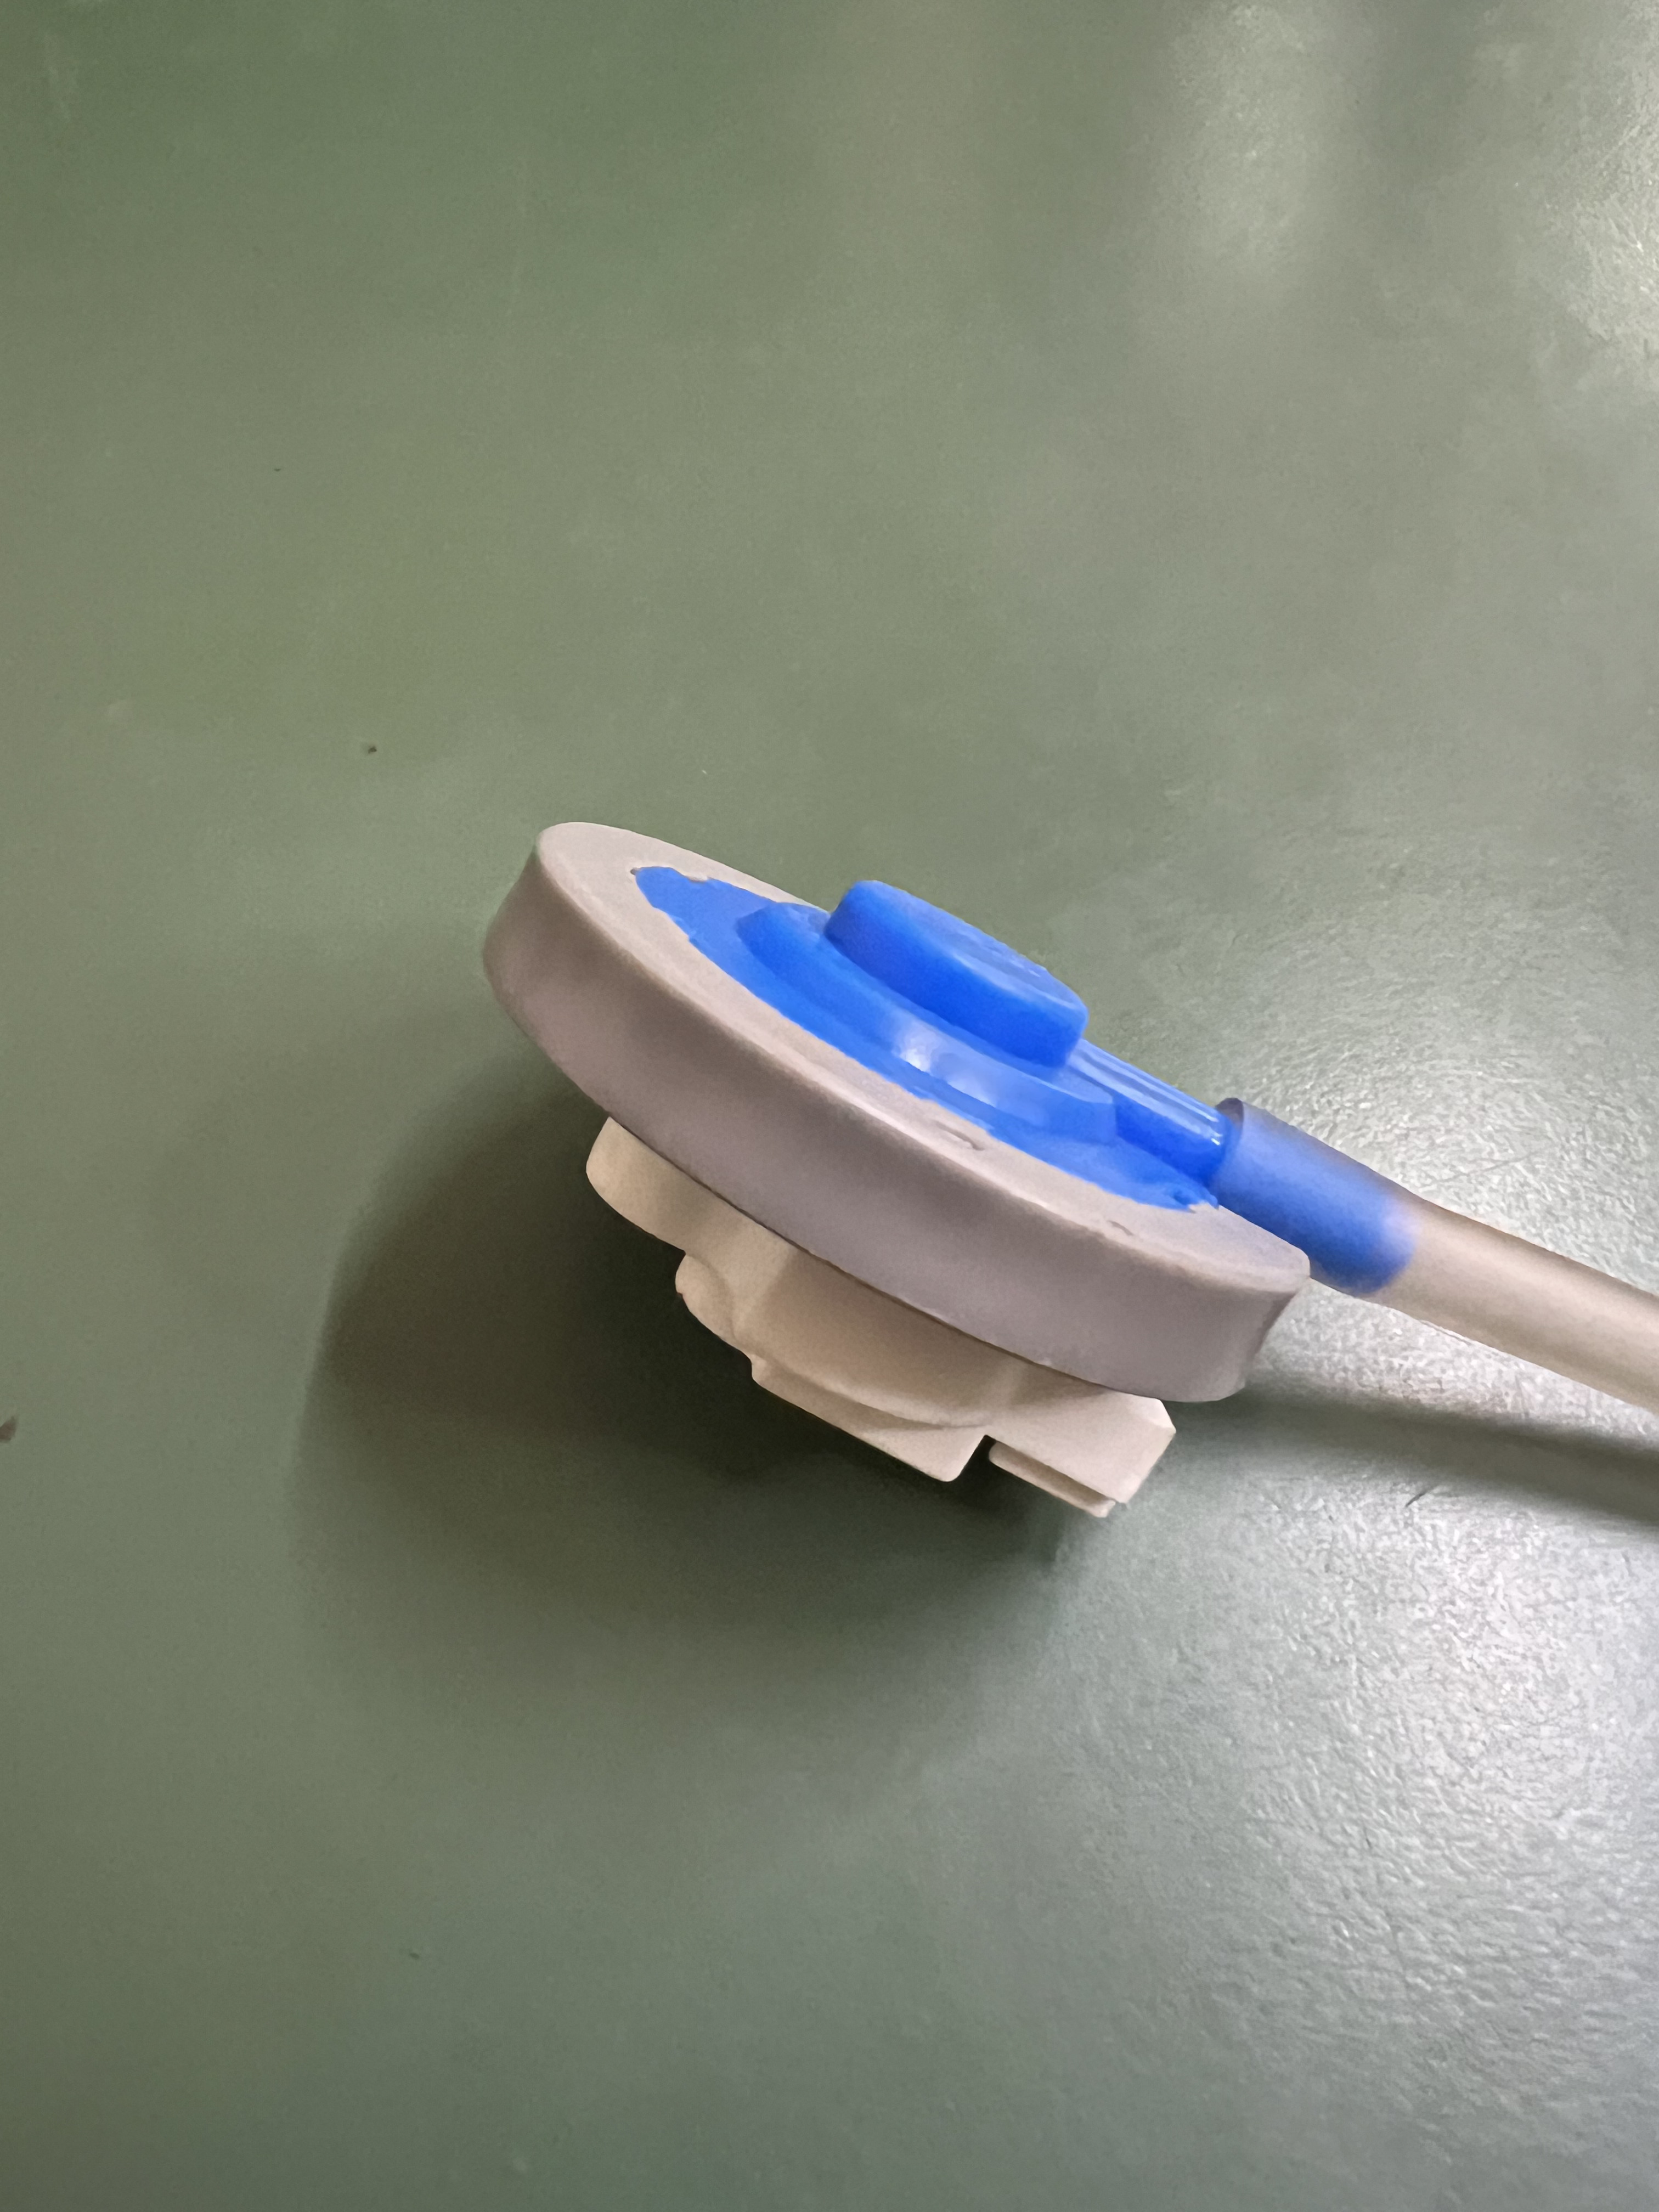pressure_sensor: (396, 792, 1455, 1599)
